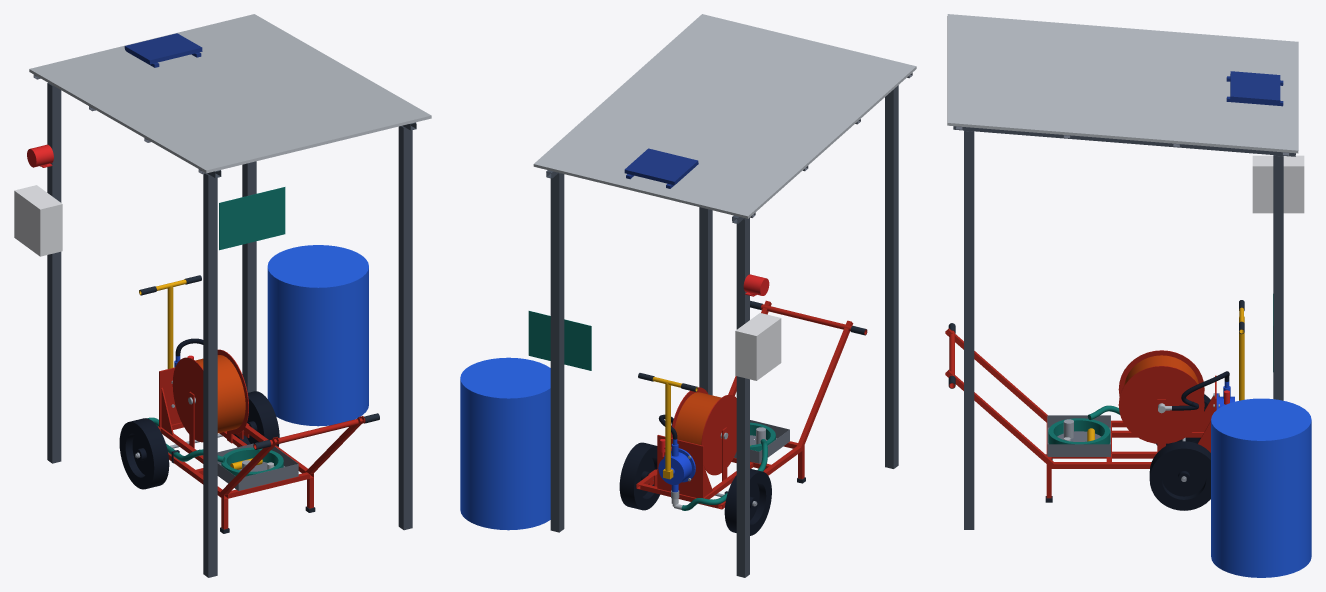
3 renders of one model, left to right at view 1: azimuth 30°, elevation 25°; view 2: azimuth 150°, elevation 25°; view 3: azimuth 270°, elevation 25°, orthographic. The views are drawn at different scales.
Parts seen in each view (by area): view 1: Roof sheet, corrugated, Station posts, Water drum, 200 L, Wheels, 400 mm puncture-proof, Station sign, Station alarm box, Hose reel drum, Base frame: rails, cross members, bearers, legs and axle pla, Delivery hose, 19 mm x 30 m, wound, Handle: two arms and a cross bar, Solar panel, 10 W, on two rails, Hose tray (+4 smaller); view 2: Roof sheet, corrugated, Station posts, Water drum, 200 L, Wheels, 400 mm puncture-proof, Station alarm box, Station sign, Hose reel drum, Solar panel, 10 W, on two rails, Handle: two arms and a cross bar, Base frame: rails, cross members, bearers, legs and axle pla, Delivery hose, 19 mm x 30 m, wound, Pump stand plate and gussets (+3 smaller); view 3: Roof sheet, corrugated, Water drum, 200 L, Station posts, Hose reel drum, Wheels, 400 mm puncture-proof, Station alarm box, Handle: two arms and a cross bar, Base frame: rails, cross members, bearers, legs and axle pla, Solar panel, 10 W, on two rails, Hose tray, Roof beams, Suction hose, 25 mm x 4 m, coiled (+4 smaller).
Part boxes in pixels (x1=…): Roof sheet, corrugated: x1=29, y1=14, x2=431, y2=173; Station posts: x1=47, y1=83, x2=412, y2=577; Water drum, 200 L: x1=267, y1=245, x2=368, y2=426; Wheels, 400 mm puncture-proof: x1=119, y1=391, x2=279, y2=489; Station sign: x1=219, y1=187, x2=285, y2=250; Station alarm box: x1=14, y1=185, x2=62, y2=256; Hose reel drum: x1=172, y1=349, x2=248, y2=442; Base frame: rails, cross members, bearers, legs and axle pla: x1=158, y1=422, x2=313, y2=529; Delivery hose, 19 mm x 30 m, wound: x1=195, y1=355, x2=245, y2=433; Handle: two arms and a cross bar: x1=220, y1=416, x2=365, y2=494; Solar panel, 10 W, on two rails: x1=124, y1=33, x2=202, y2=67; Hose tray: x1=217, y1=443, x2=298, y2=490; Roof sheet, corrugated: x1=533, y1=14, x2=916, y2=218; Station posts: x1=550, y1=85, x2=898, y2=577; Water drum, 200 L: x1=460, y1=357, x2=550, y2=530; Wheels, 400 mm puncture-proof: x1=619, y1=442, x2=771, y2=535; Station alarm box: x1=735, y1=313, x2=781, y2=380; Station sign: x1=528, y1=311, x2=591, y2=370; Hose reel drum: x1=671, y1=387, x2=736, y2=475; Solar panel, 10 W, on two rails: x1=624, y1=148, x2=698, y2=188; Handle: two arms and a cross bar: x1=728, y1=300, x2=867, y2=447; Base frame: rails, cross members, bearers, legs and axle pla: x1=636, y1=441, x2=804, y2=509; Delivery hose, 19 mm x 30 m, wound: x1=674, y1=392, x2=720, y2=444; Pump stand plate and gussets: x1=657, y1=435, x2=712, y2=498; Roof sheet, corrugated: x1=947, y1=14, x2=1298, y2=153; Water drum, 200 L: x1=1211, y1=398, x2=1311, y2=577; Station posts: x1=964, y1=130, x2=1283, y2=529; Hose reel drum: x1=1118, y1=350, x2=1204, y2=443; Wheels, 400 mm puncture-proof: x1=1149, y1=394, x2=1210, y2=510; Station alarm box: x1=1252, y1=155, x2=1304, y2=213; Handle: two arms and a cross bar: x1=945, y1=328, x2=1053, y2=464; Base frame: rails, cross members, bearers, legs and axle pla: x1=1046, y1=420, x2=1204, y2=498; Solar panel, 10 W, on two rails: x1=1226, y1=71, x2=1283, y2=106; Hose tray: x1=1047, y1=415, x2=1110, y2=456; Roof beams: x1=953, y1=126, x2=1295, y2=156; Suction hose, 25 mm x 4 m, coiled: x1=1048, y1=418, x2=1110, y2=444.
Size of the model in its own units: 2.17 by 2.65 by 2.13.
